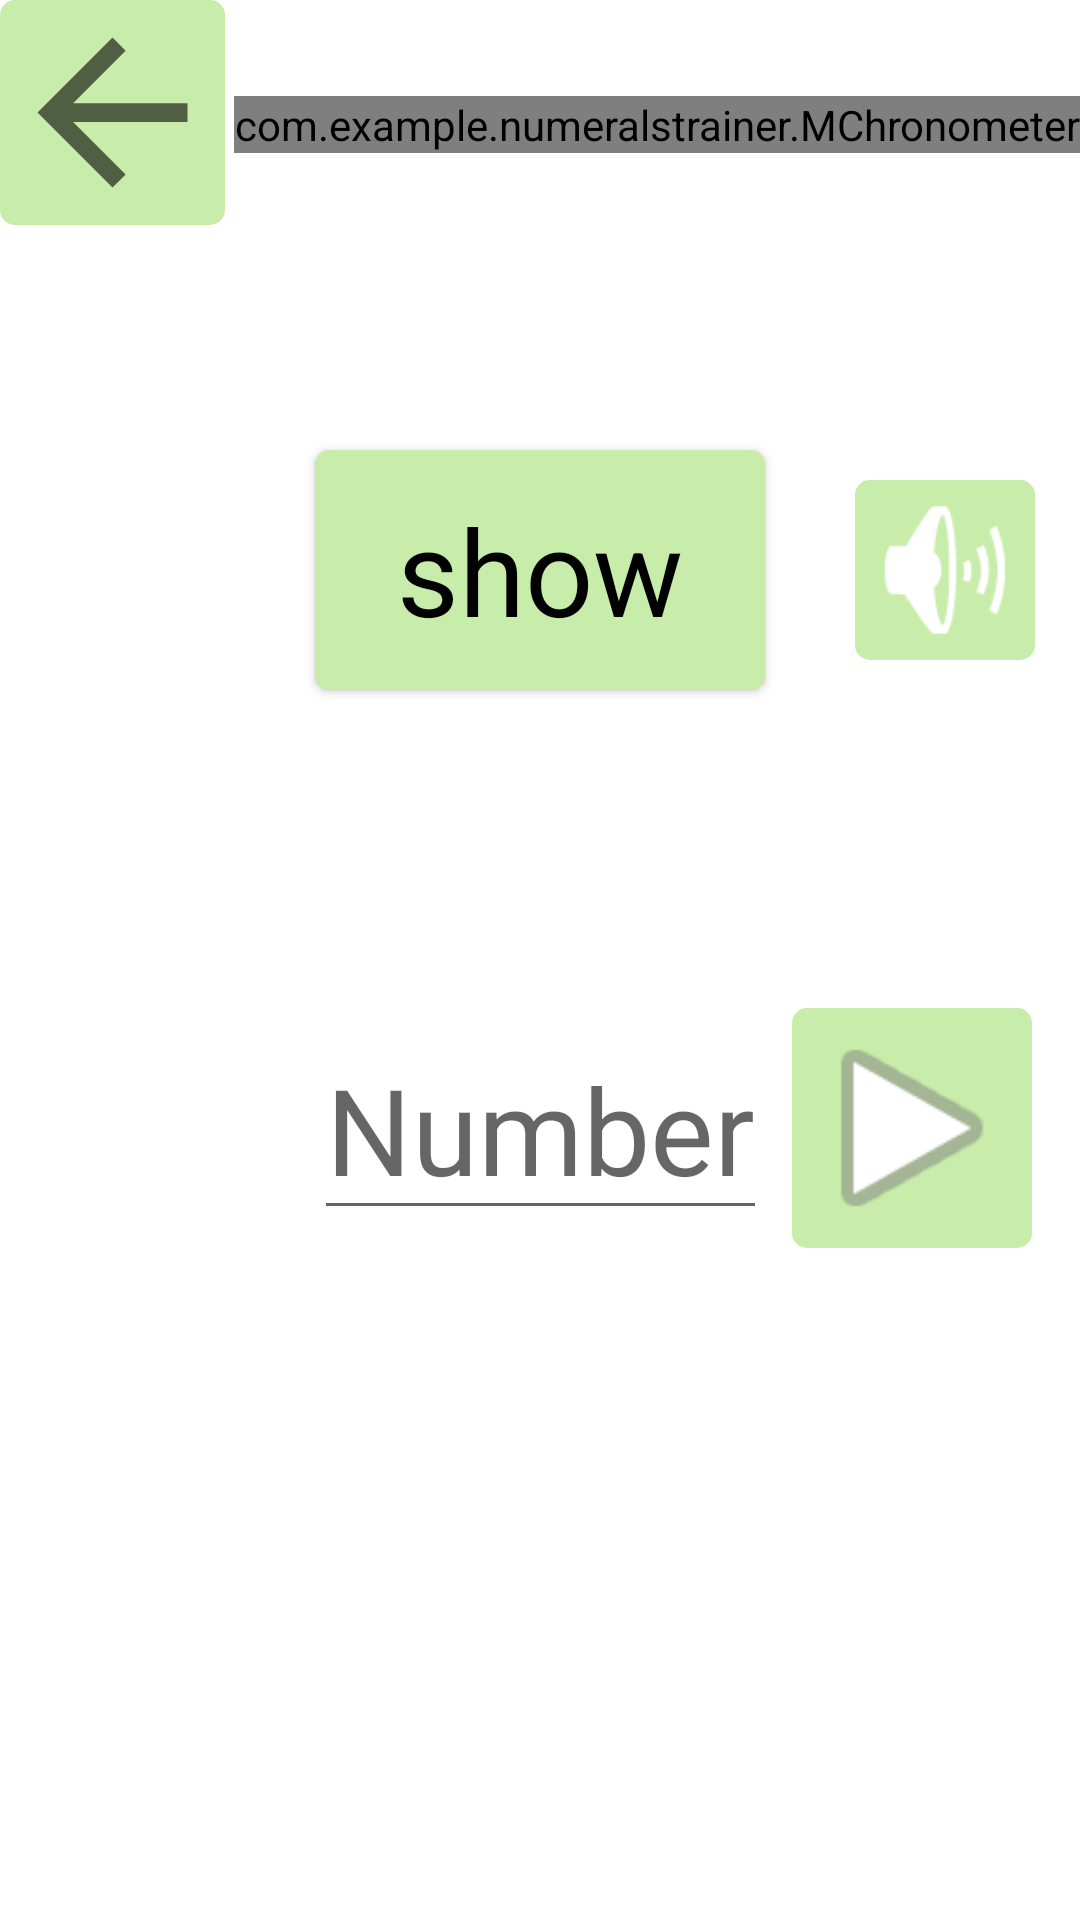

Named icons in this screenshot (1080*1920) and their centers, (x,y):
lock silent mode off: (945,570)
play: (912,1128)
